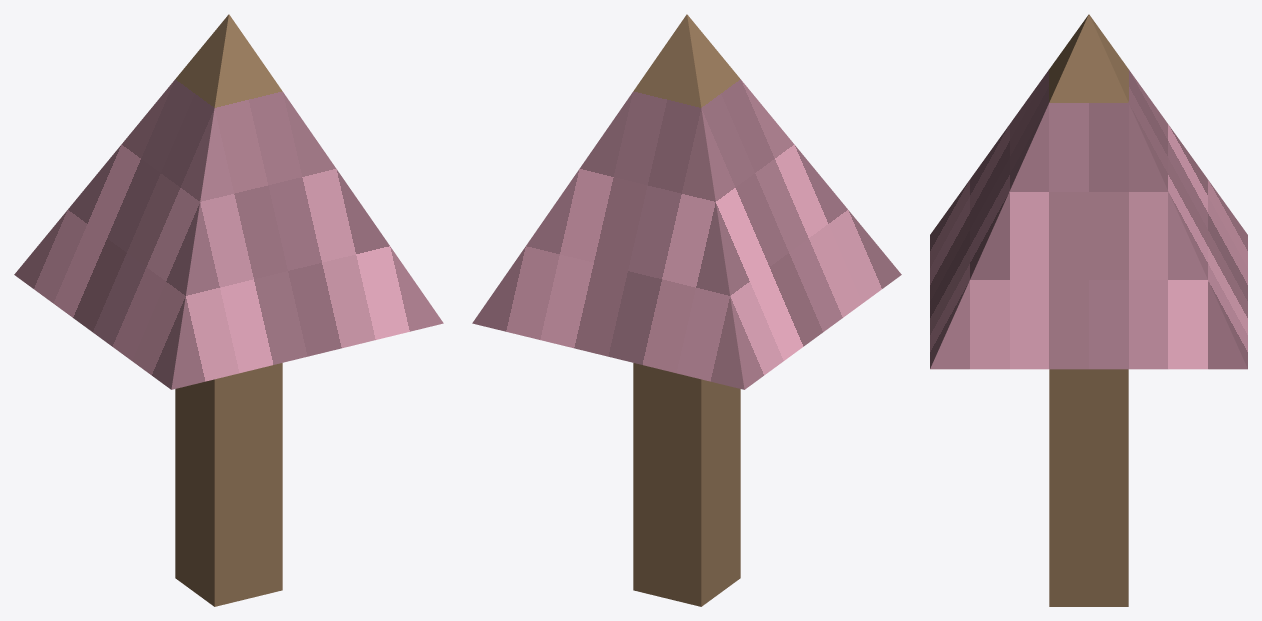
The model's file is pink_umbrella_close_3d.obj.
The picture shows the model from 3 angles, left to right: view 1: azimuth 30°, elevation 25°; view 2: azimuth 150°, elevation 25°; view 3: azimuth 270°, elevation 25°; orthographic projection.
Visible parts, largest first — view 1: Cube; view 2: Cube; view 3: Cube.
Boxes of the visible parts, bbox=[...] form: Cube: bbox=[14, 14, 443, 606]; Cube: bbox=[472, 14, 901, 606]; Cube: bbox=[930, 14, 1247, 606].
Bounding box in the file's own units: 0.5 × 1 × 0.5.
